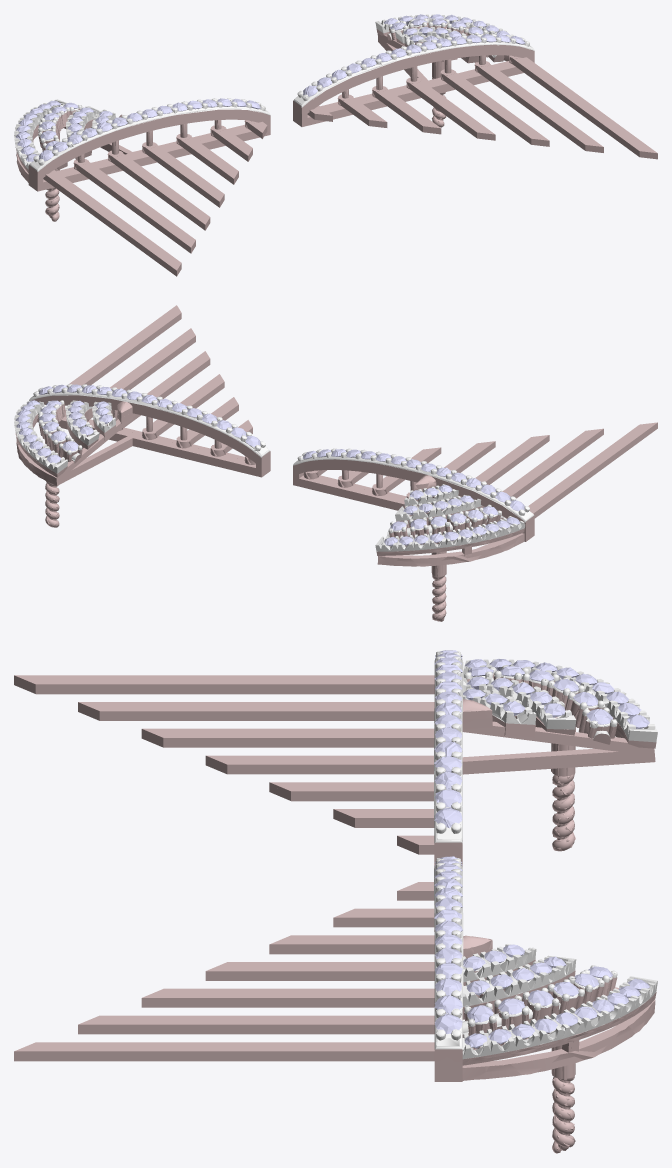
The picture shows the model from 3 angles, top to bottom: view 1: azimuth 30°, elevation 25°; view 2: azimuth 150°, elevation 25°; view 3: azimuth 270°, elevation 25°; orthographic projection. The views are drawn at different scales.
Parts seen in each view (by area): view 1: highPolyMesh, lowPolyMesh; view 2: highPolyMesh, lowPolyMesh; view 3: highPolyMesh, lowPolyMesh.
Part boxes in pixels (x1,y1,x2,y2): highPolyMesh: [14, 14, 657, 276]; lowPolyMesh: [15, 14, 639, 254]; highPolyMesh: [14, 305, 657, 621]; lowPolyMesh: [14, 314, 654, 621]; highPolyMesh: [14, 651, 657, 1153]; lowPolyMesh: [14, 650, 656, 1152].
Size of the model in its own units: 0.0426 by 0.00996 by 0.0298.
